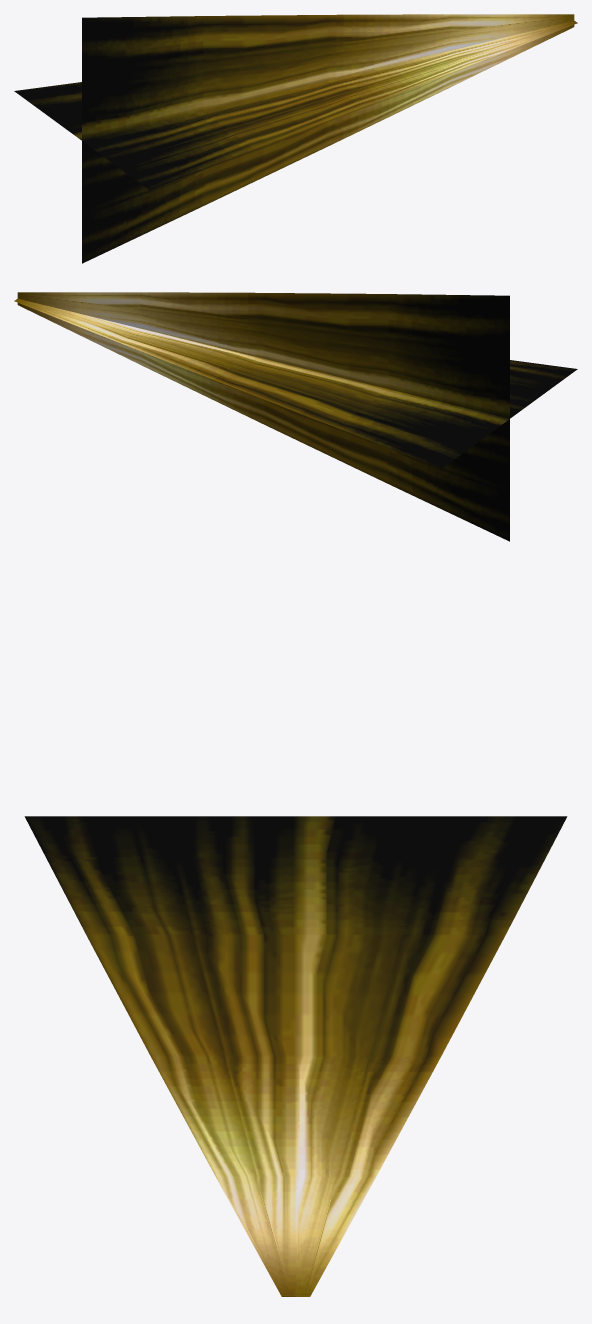
3 renders of one model, top to bottom at view 1: azimuth 30°, elevation 25°; view 2: azimuth 150°, elevation 25°; view 3: azimuth 270°, elevation 25°, orthographic. The views are drawn at different scales.
Visible parts, largest first — view 1: Plane_014; view 2: Plane_014; view 3: Plane_014.
Part boxes in pixels (box(x1,y1,x2,y2)): Plane_014: box(14, 14, 577, 263); Plane_014: box(14, 292, 577, 541); Plane_014: box(24, 816, 567, 1296).
Bounding box in the file's own units: 100 × 47.92 × 47.92.
